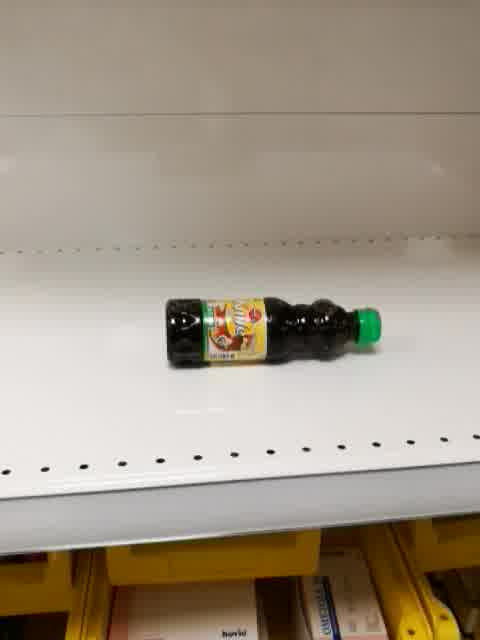cookingoil: (164, 294, 385, 370)
